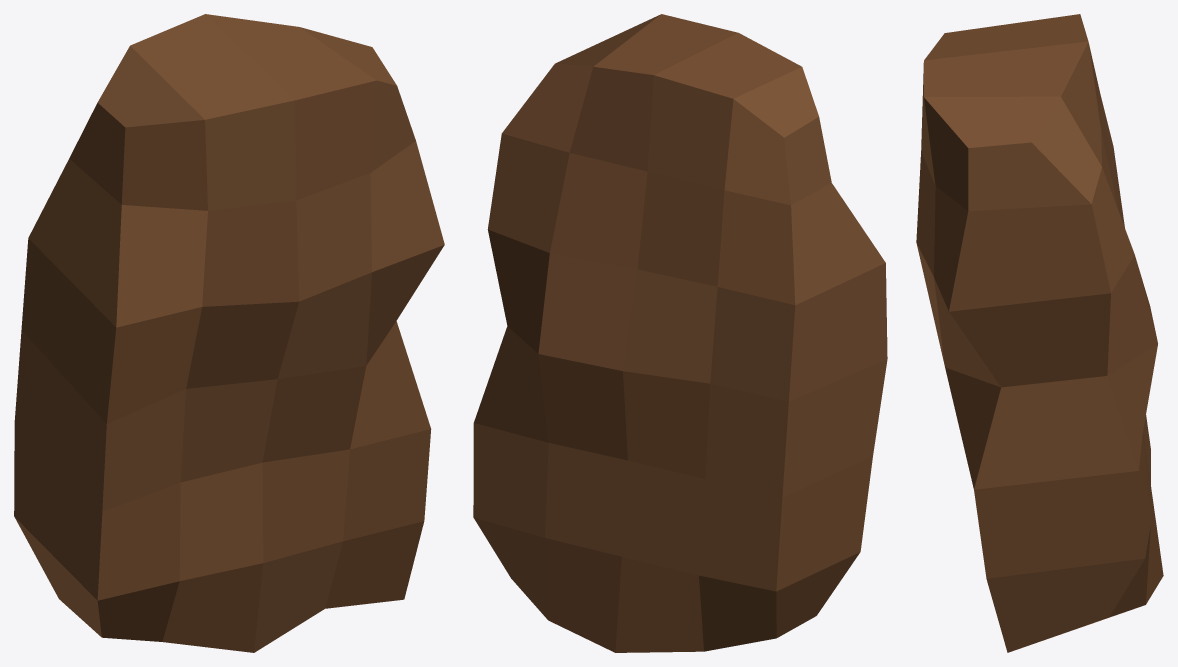
File: Pedra Defesa.fbx
The picture shows the model from 3 angles, left to right: view 1: azimuth 30°, elevation 25°; view 2: azimuth 150°, elevation 25°; view 3: azimuth 270°, elevation 25°; orthographic projection. The views are drawn at different scales.
Visible parts, largest first — view 1: Pedra Defesa; view 2: Pedra Defesa; view 3: Pedra Defesa.
Boxes of the visible parts, left/top/right/bottom form: Pedra Defesa: left=14, top=14, right=444, bottom=652; Pedra Defesa: left=473, top=14, right=887, bottom=652; Pedra Defesa: left=916, top=14, right=1163, bottom=652.
Size of the model in its own units: 430 by 736 by 298.
